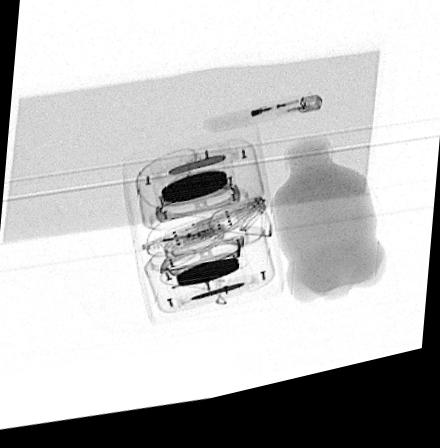Lighter: (202, 108, 322, 143)
